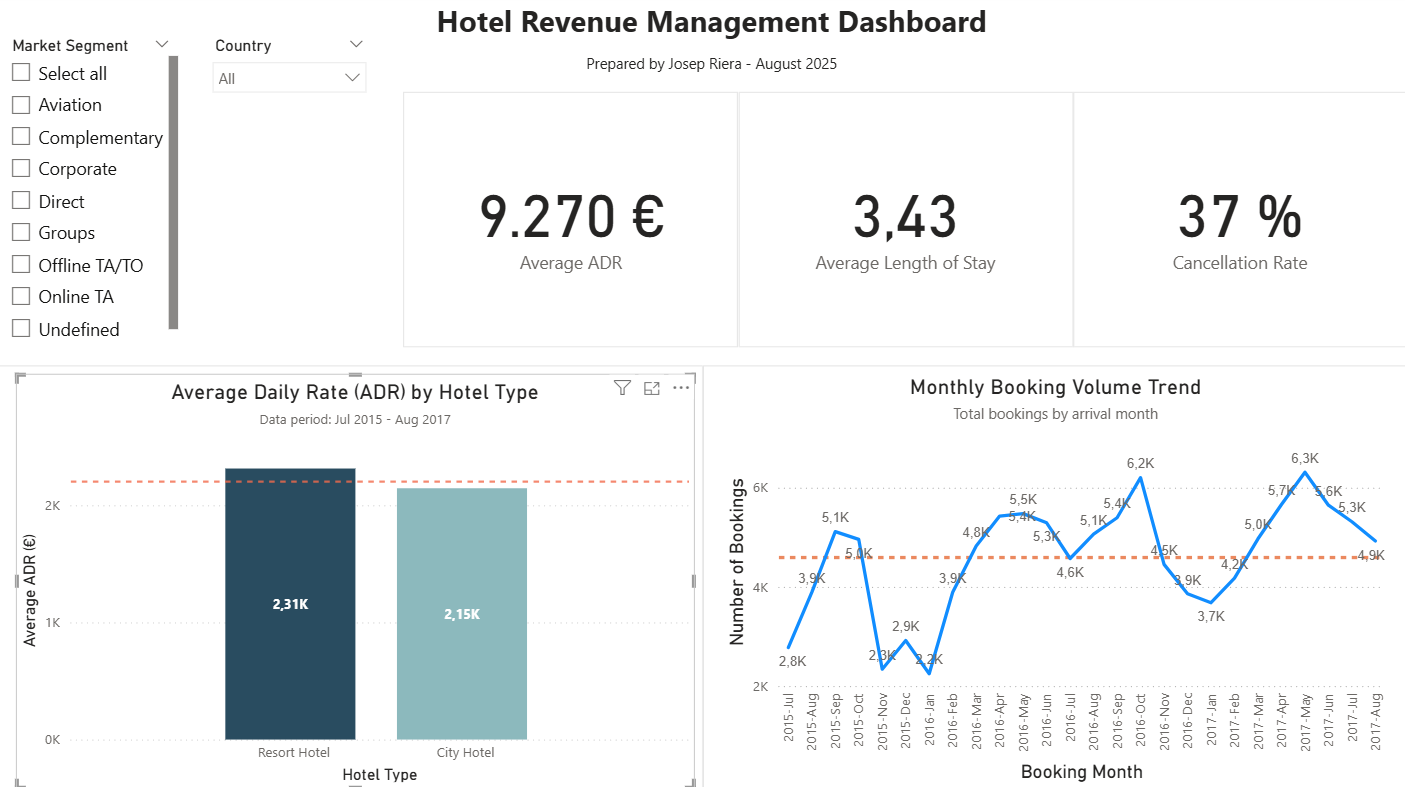

Layout of this report page (visuals, bound fields, positions):
{"tool":"powerbi","page":{"name":"Page 1","canvas":[1280,720],"ordinal":0},"visuals":[{"type":"shape","box":[672,88,304,232],"z":0},{"type":"shape","box":[640,336,640,384],"z":1000},{"type":"shape","box":[0,336,640,384],"z":2000},{"type":"shape","box":[976,88,304,232],"z":3000},{"type":"card","fields":{"Values":["AvgKenghtOfStay.AvegLengthOfStay"]},"box":[680,96,288,216],"z":4000},{"type":"shape","box":[368,88,304,232],"z":5000},{"type":"clusteredColumnChart","title":"Average Daily Rate (ADR) by Hotel Type","fields":{"Category":["hotel_bookings.hotel"],"Y":["Avg(hotel_bookings.adr)1"]},"box":[16,344,616,376],"z":6000},{"type":"card","title":"Average ADR","fields":{"Values":["Avg(AvgKenghtOfStay.adr)"]},"box":[376,96,288,216],"z":7000},{"type":"card","fields":{"Values":["hotel_bookings.CancelRatePct"]},"box":[984,96,288,216],"z":8000},{"type":"lineChart","title":"Monthly Booking Volume Trend","fields":{"Y":["hotel_bookings.TotalBookings"],"Category":["hotel_bookings.YearMonth"]},"box":[656,344,608,376],"z":9000},{"type":"textbox","box":[384,0,528,48],"z":10000},{"type":"textbox","box":[512,48,272,32],"z":11000},{"type":"slicer","fields":{"Values":["hotel_bookings.market_segment"]},"box":[0,32,168,288],"z":12000},{"type":"slicer","title":"Country","fields":{"Values":["hotel_bookings.country"]},"box":[184,32,160,288],"z":13000}]}

Visuals, with their boxes in screenshot pixels (x1, y1, x2, y2), scaled from the page's 1280x720 canvas onto the 1405x787 screenshot:
shape: 738,96,1071,350
shape: 702,367,1404,786
shape: 0,367,702,786
shape: 1071,96,1404,350
card - AvgKenghtOfStay.AvegLengthOfStay: 746,105,1063,341
shape: 404,96,738,350
"Average Daily Rate (ADR) by Hotel Type" clusteredColumnChart: 18,376,694,786
"Average ADR" card: 413,105,729,341
card - hotel_bookings.CancelRatePct: 1080,105,1396,341
"Monthly Booking Volume Trend" lineChart: 720,376,1387,786
textbox: 422,0,1001,52
textbox: 562,52,861,87
slicer - hotel_bookings.market_segment: 0,35,184,350
"Country" slicer: 202,35,378,350
